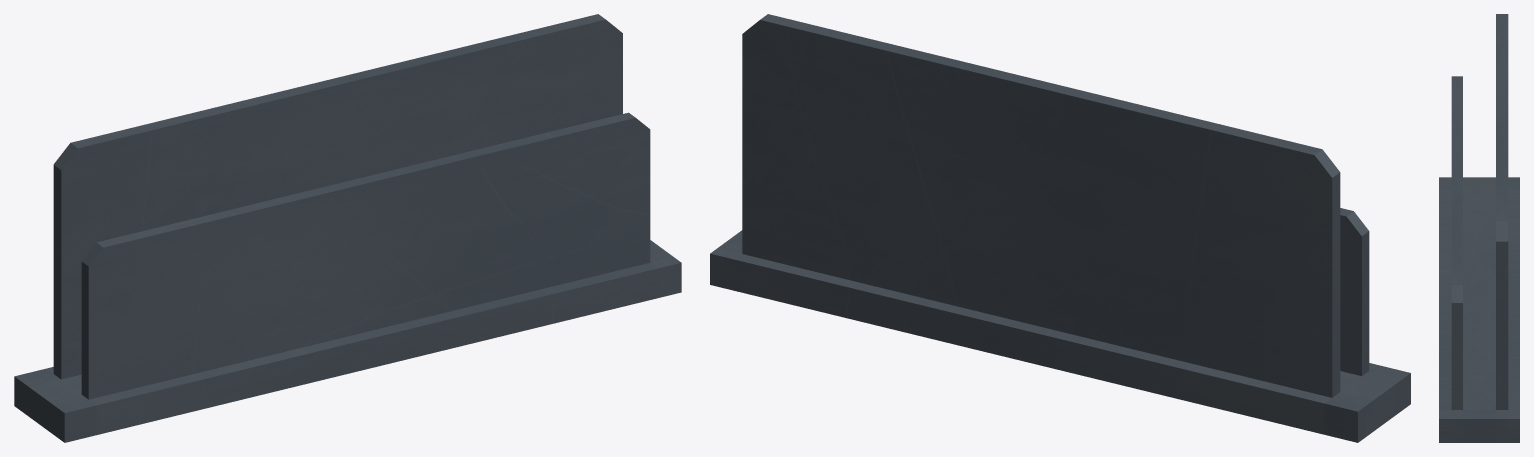
File: Holder_Bake.fbx
3 views of the same model, side by side, from view 1: azimuth 30°, elevation 25°; view 2: azimuth 150°, elevation 25°; view 3: azimuth 270°, elevation 25° (orthographic). The views are drawn at different scales.
Visible parts, largest first — view 1: Holder_Bake; view 2: Holder_Bake; view 3: Holder_Bake.
Boxes of the visible parts, box(x1,y1,x2,y2) form: Holder_Bake: box(14, 14, 681, 442); Holder_Bake: box(710, 14, 1410, 442); Holder_Bake: box(1439, 14, 1519, 442).
Size of the model in its own units: 3.63 by 25.64 by 10.2.
Materials: 1 (1 with a texture image).
